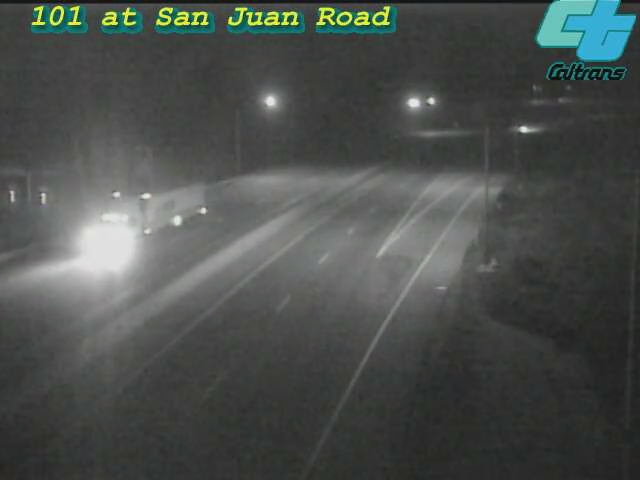vehicle: (101, 178, 181, 258), (499, 105, 549, 155)
